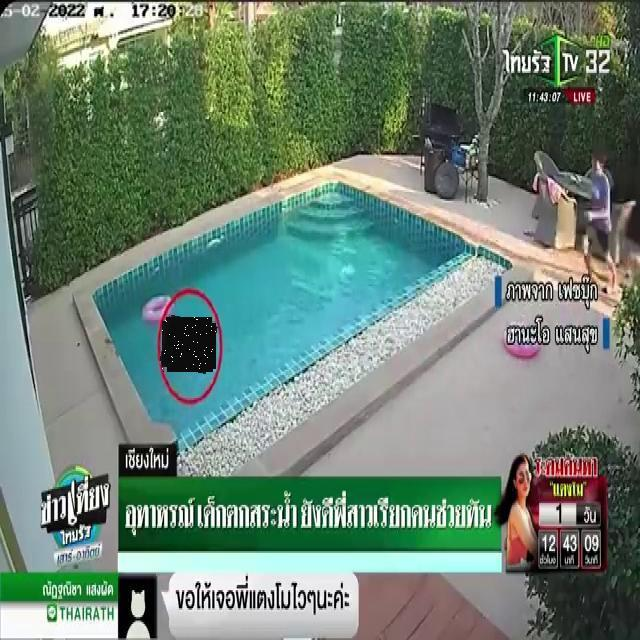Out of Water: (162, 317, 216, 372)
